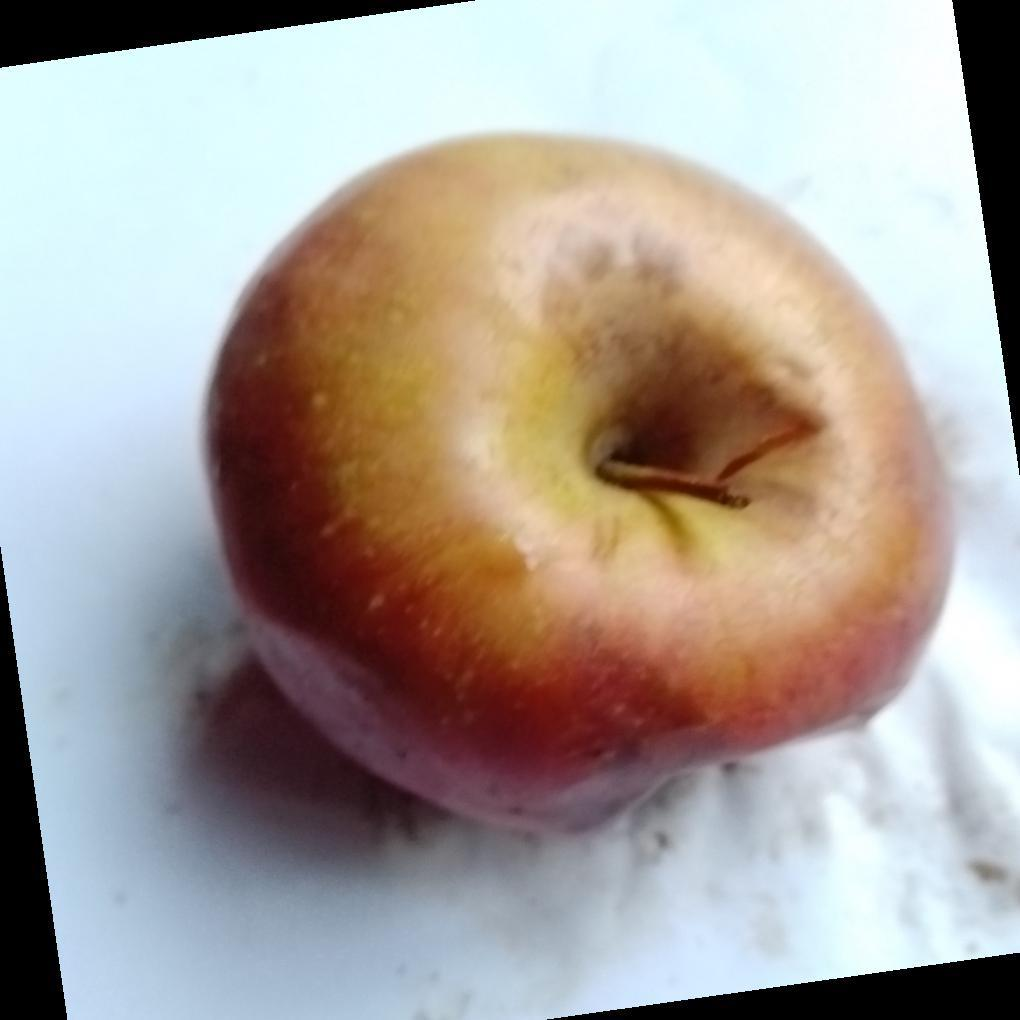FreshOrange: (199, 132, 958, 844)
